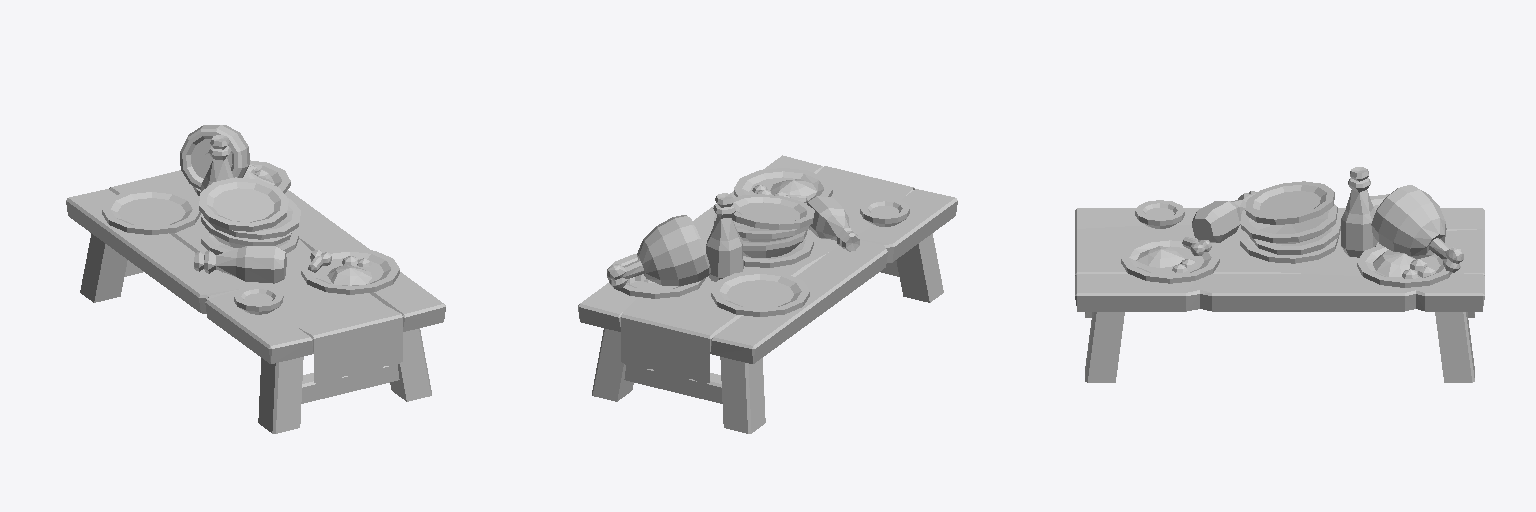
Rendered from table_long_tablecloth_decorated_A.obj.
3 views of the same model, side by side, from view 1: azimuth 30°, elevation 25°; view 2: azimuth 150°, elevation 25°; view 3: azimuth 270°, elevation 25° (orthographic).
Parts seen in each view (by area): view 1: table_long_tablecloth_decorated_A_Cube.15592; view 2: table_long_tablecloth_decorated_A_Cube.15592; view 3: table_long_tablecloth_decorated_A_Cube.15592.
Boxes of the visible parts, x1,y1,x2,y2 form: table_long_tablecloth_decorated_A_Cube.15592: [66, 125, 445, 433]; table_long_tablecloth_decorated_A_Cube.15592: [578, 155, 957, 433]; table_long_tablecloth_decorated_A_Cube.15592: [1075, 167, 1484, 382].
Size of the model in its own units: 2.06 by 1.89 by 4.